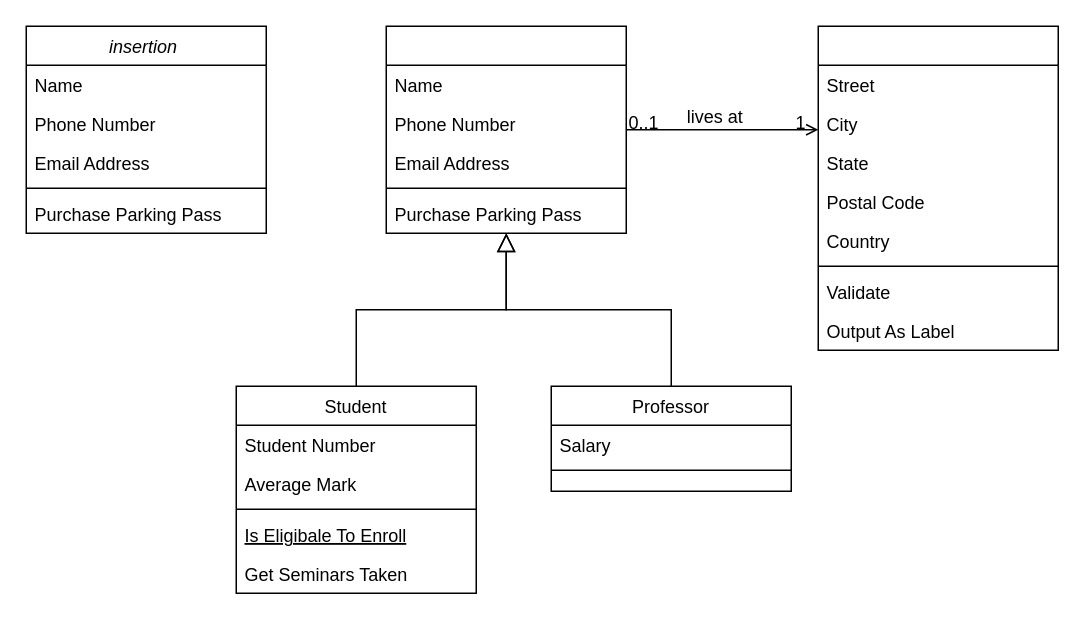
Some shapes in this 1085 by 624 pixel diagram are drawn without their labels. Each missing label, with the box of its shape:
Address: (817, 25, 1058, 350)
Person: (385, 25, 626, 233)
